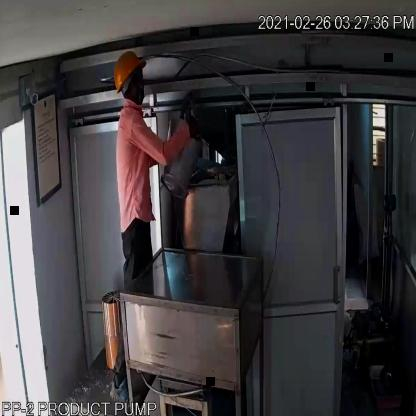helmet: (111, 43, 149, 98)
